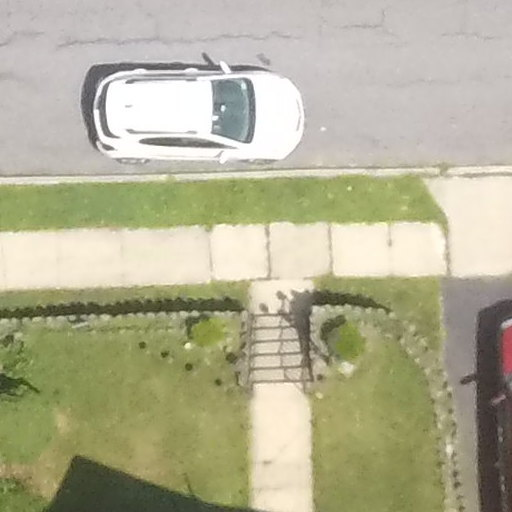car: (68, 56, 336, 177)
